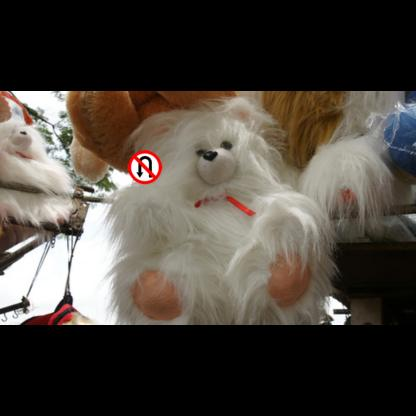R-5a: (128, 150, 162, 184)
